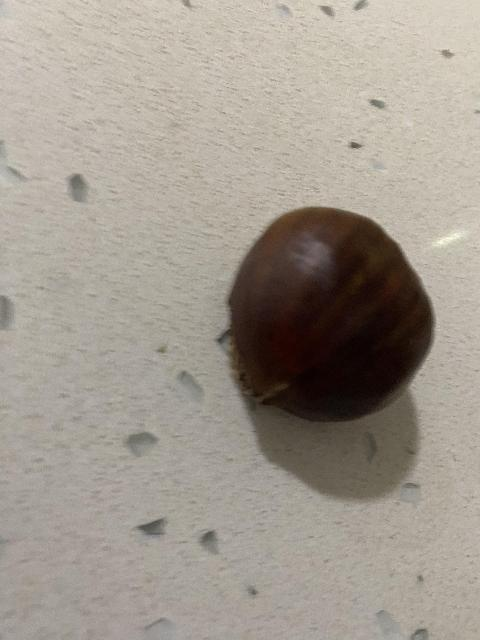Organik: (229, 202, 437, 430)
